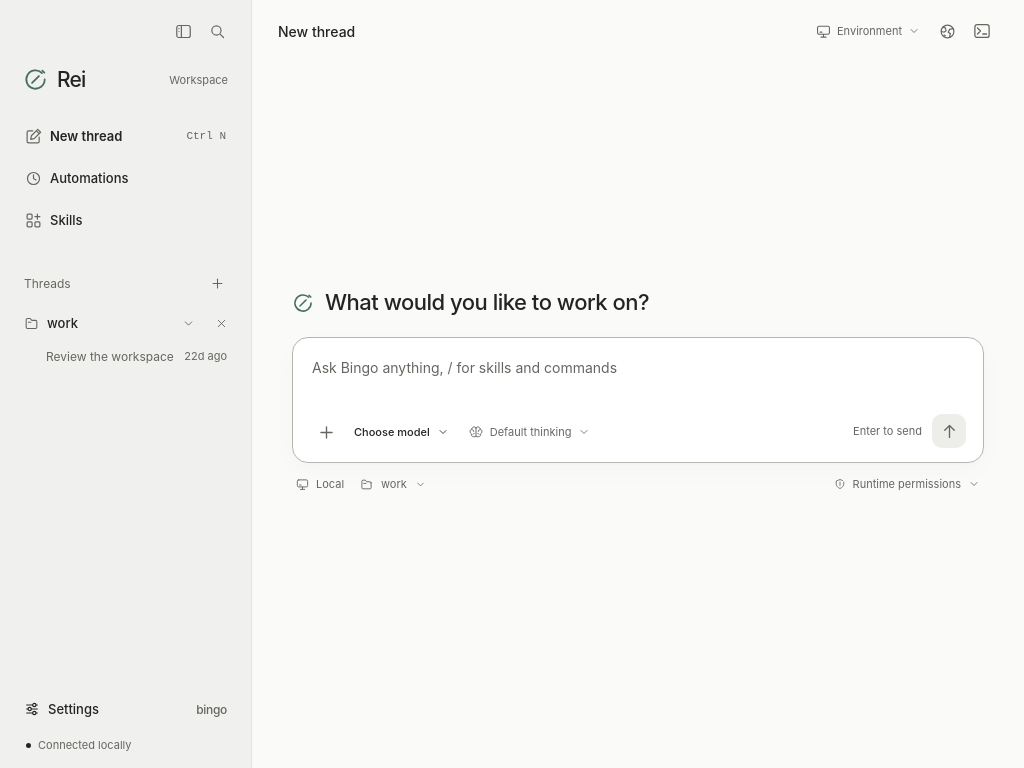
Test: desktop user journeys › clears in-memory drafts as well as persisted drafts
Expected: the text "Connected locally" is shown, 38,738 -> 132,752
Expected: the button named "Send message" is disabled, 932,414 -> 966,448
Step 1. Type "Remove this draft" into the text box named "Message bingo" → (638, 381), box 307,350 -> 969,412
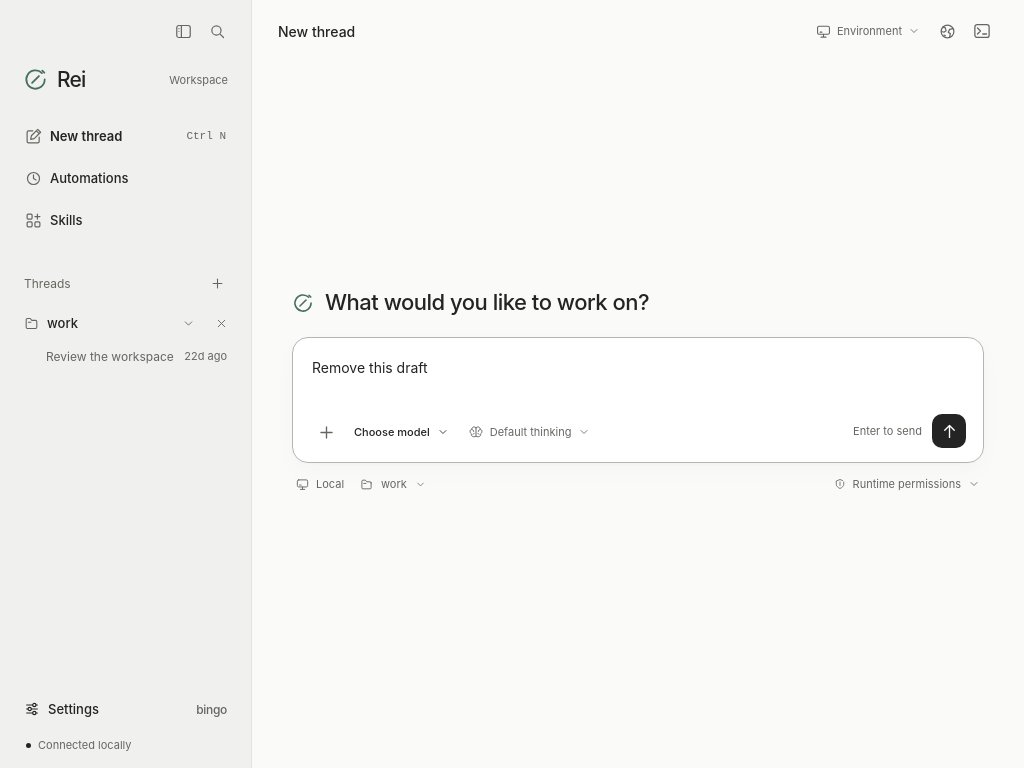
Step 2. Click the button "Settings" → (62, 709), box 14,692 -> 109,726
(page scrolled)
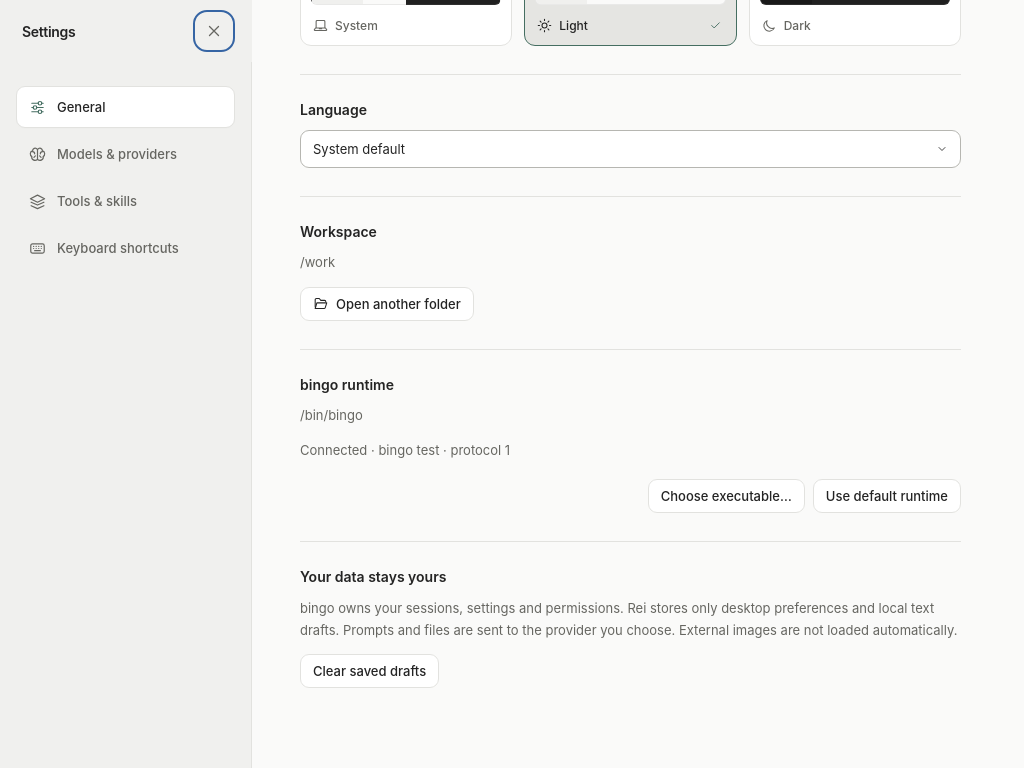
Step 3. Click the button "Clear saved drafts" → (370, 671), box 300,654 -> 439,688
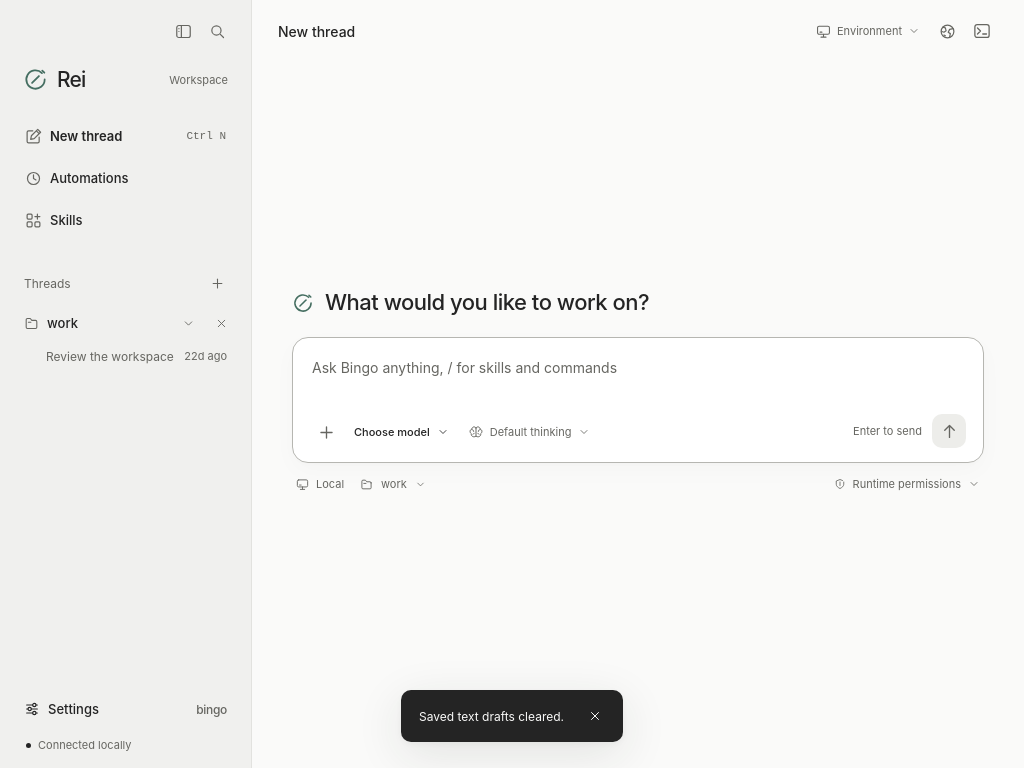
Now the text box named "Message bingo" is empty, box 307,350 -> 969,412
